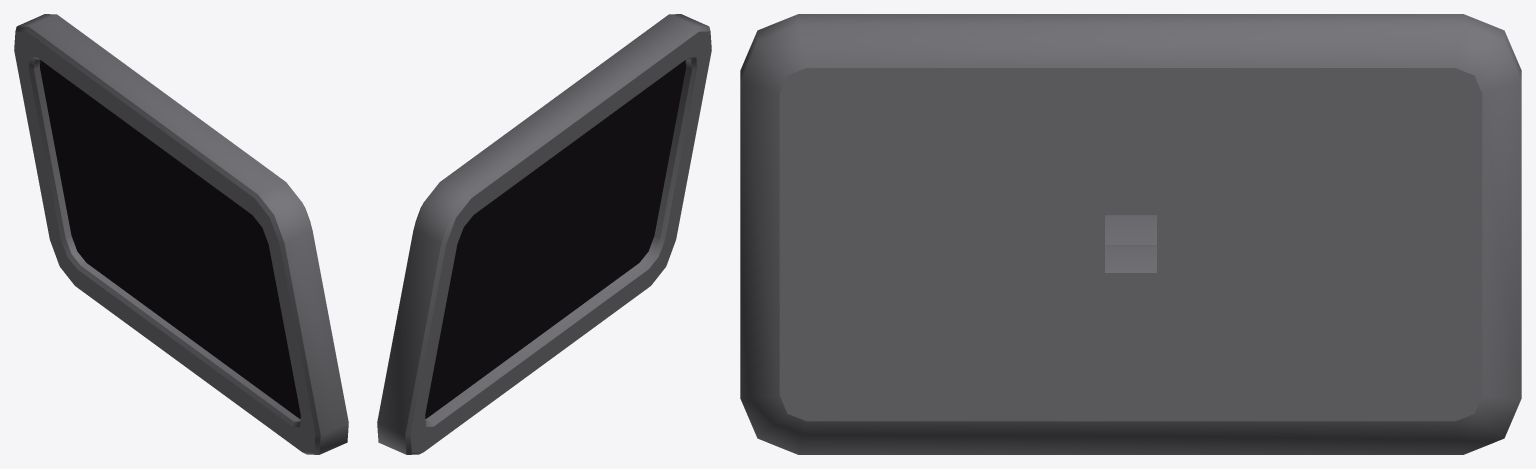
3 views of the same model, side by side, from view 1: azimuth 30°, elevation 25°; view 2: azimuth 150°, elevation 25°; view 3: azimuth 270°, elevation 25° (orthographic). The views are drawn at different scales.
Parts seen in each view (by area): view 1: TV; view 2: TV; view 3: TV.
Part boxes in pixels (<box>): TV: <box>14,14,348,454</box>; TV: <box>377,14,711,454</box>; TV: <box>740,14,1521,454</box>.
Size of the model in its own units: 0.2192 by 0.5814 by 1.02.
